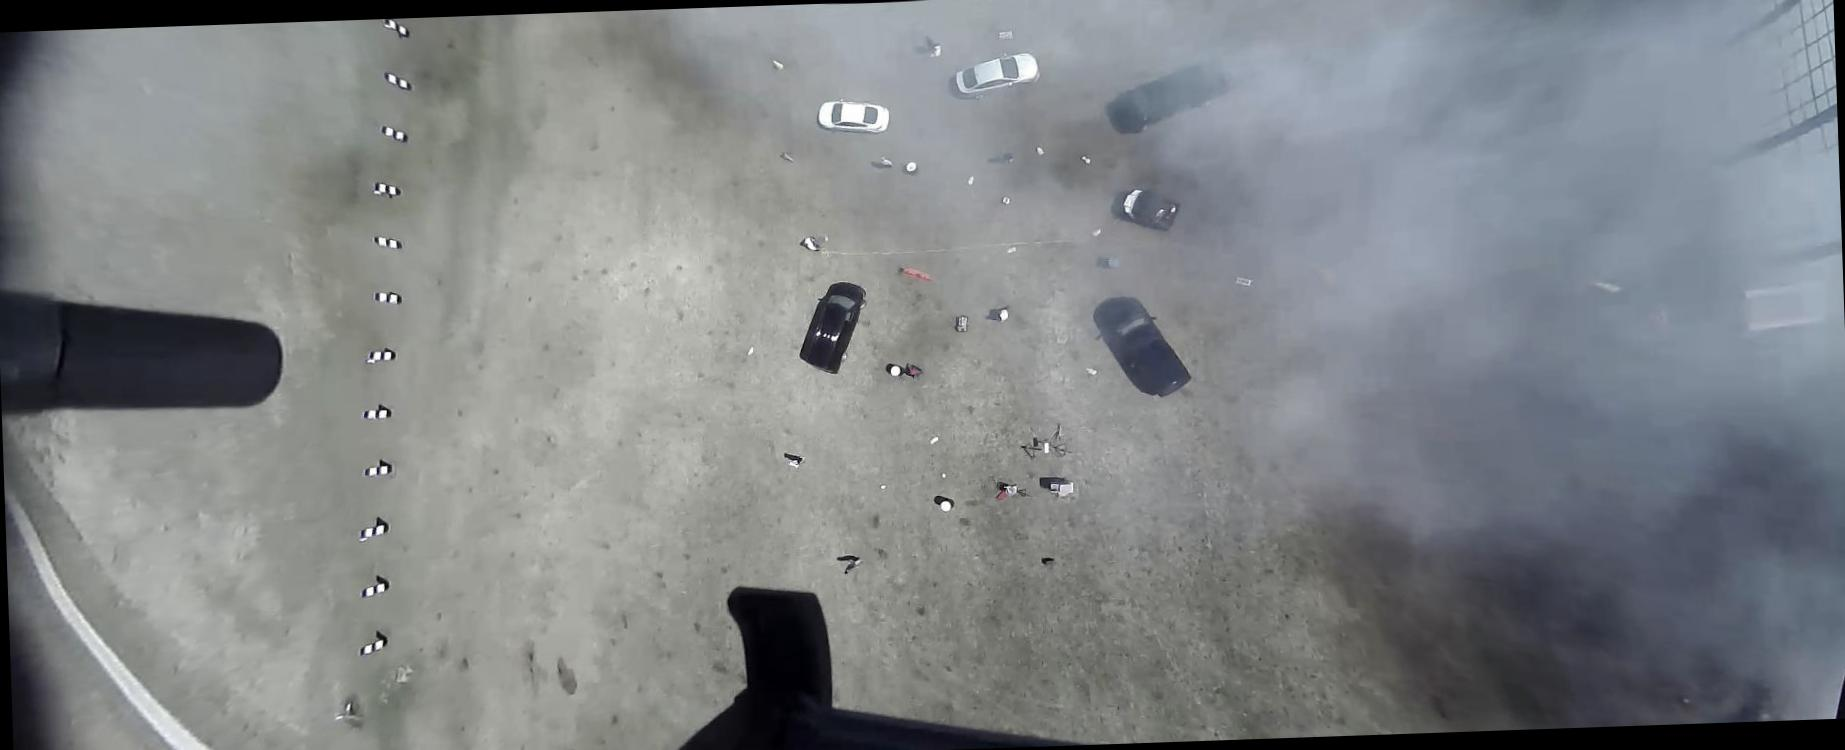vehicle: (1094, 294, 1193, 400), (1103, 60, 1233, 137), (795, 281, 870, 376), (952, 49, 1041, 100), (814, 95, 892, 137), (1119, 186, 1181, 234)
